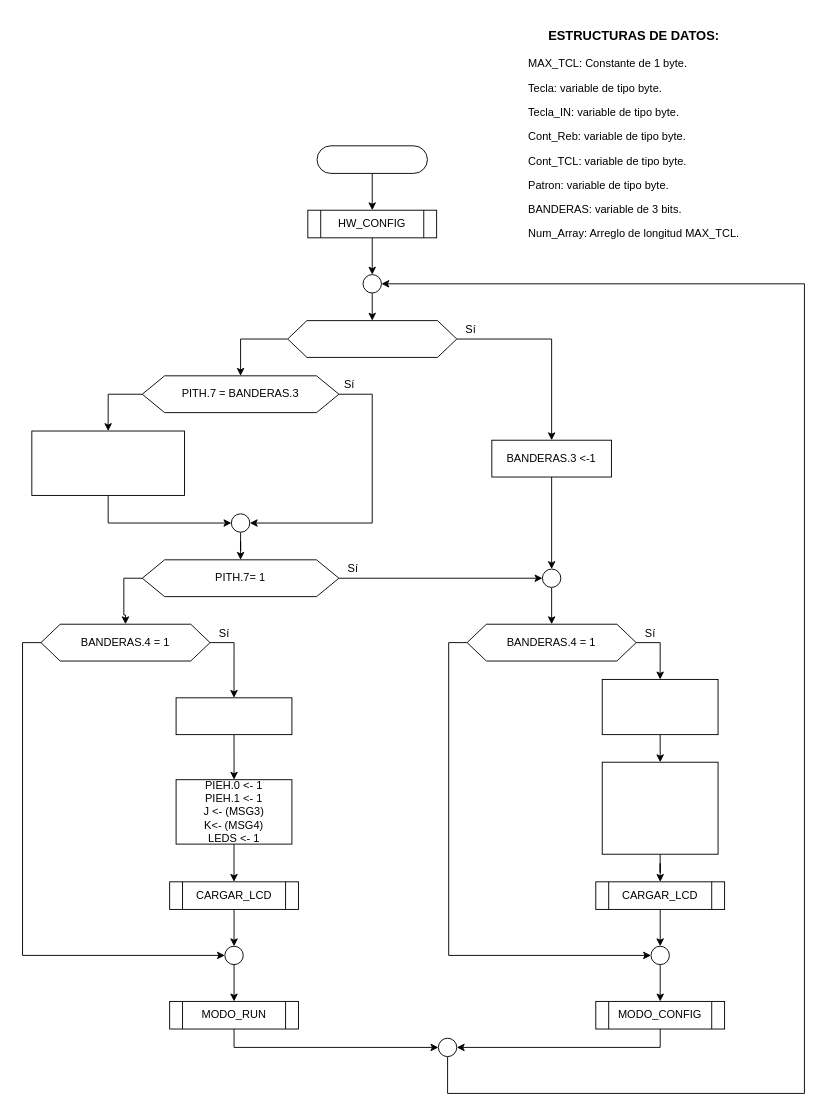
Image size: 828x1117. Some labels were removed from this diagram. The box of each missing label's shape, as (x1, y1, x2, y2) in pixels:
BANDERAS.4 <- 1 BANDERAS.3<- PITH.7: (31, 430, 184, 495)
BANDERAS.4 <-0: (175, 697, 292, 735)
BANDERAS.4 <-0 CUENTA <- 0 AcmPQ <- 0: (601, 678, 718, 735)
CantPQ = 0: (287, 320, 457, 357)
MAIN: (316, 145, 427, 173)
PIEH.0 <- 0 PIEH.1<-0 CRGINT.7 <- 1 J <- (MSG1) K<- (MSG2) LEDS <-2: (601, 761, 718, 854)
